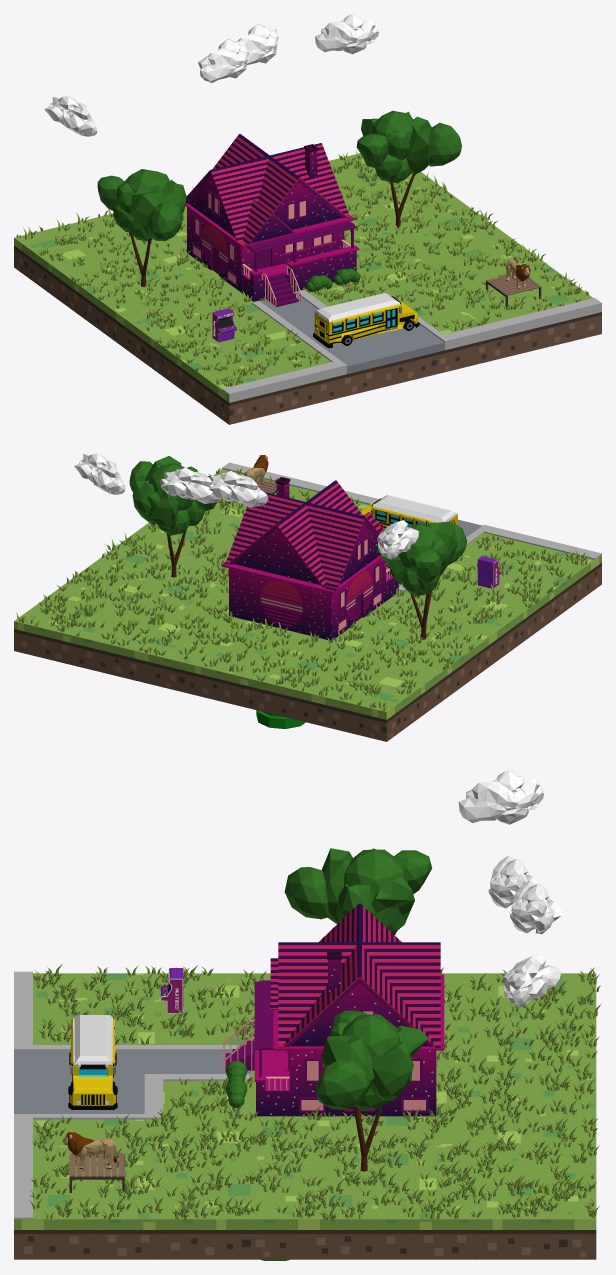
3 renders of one model, top to bottom at view 1: azimuth 30°, elevation 25°; view 2: azimuth 150°, elevation 25°; view 3: azimuth 270°, elevation 25°, orthographic. The views are drawn at different scales.
Visible parts, largest first — view 1: Cube.006, Cube.156, Circle.012_Grass_0.192, Cube.007, tree, tree.001, VEHICLES_SCHOOL_BUS, Cube.009, OBJRANDOM_ARCADE; view 2: Cube.006, Cube.156, Circle.012_Grass_0.192, Cube.007, tree.001, tree, VEHICLES_SCHOOL_BUS, OBJRANDOM_ARCADE, UNDERGROUND_PIPES, ANIMAL_LEON; view 3: Cube.006, Circle.012_Grass_0.192, Cube.156, tree, Cube.007, tree.001, VEHICLES_SCHOOL_BUS, Cube.009, ANIMAL_LEON, OBJRANDOM_ARCADE.
Boxes of the visible parts, x1,y1,x2,y2 form: Cube.006: [14, 153, 601, 424]; Cube.156: [185, 134, 359, 308]; Circle.012_Grass_0.192: [16, 150, 588, 386]; Cube.007: [44, 14, 378, 136]; tree: [356, 110, 461, 228]; tree.001: [97, 169, 186, 286]; VEHICLES_SCHOOL_BUS: [313, 293, 419, 348]; Cube.009: [486, 274, 541, 306]; OBJRANDOM_ARCADE: [212, 308, 236, 342]; Cube.006: [14, 462, 601, 741]; Cube.156: [221, 477, 398, 640]; Circle.012_Grass_0.192: [16, 468, 588, 711]; Cube.007: [74, 453, 418, 559]; tree.001: [375, 521, 467, 639]; tree: [129, 456, 216, 577]; VEHICLES_SCHOOL_BUS: [360, 495, 457, 530]; OBJRANDOM_ARCADE: [477, 555, 501, 588]; UNDERGROUND_PIPES: [256, 710, 305, 728]; ANIMAL_LEON: [244, 455, 268, 484]; Cube.006: [14, 971, 596, 1259]; Circle.012_Grass_0.192: [29, 964, 600, 1220]; Cube.156: [223, 903, 444, 1116]; tree: [315, 1010, 428, 1171]; Cube.007: [458, 770, 561, 1007]; tree.001: [284, 848, 432, 935]; VEHICLES_SCHOOL_BUS: [68, 1015, 117, 1109]; Cube.009: [69, 1152, 124, 1192]; ANIMAL_LEON: [62, 1131, 117, 1169]; OBJRANDOM_ARCADE: [160, 968, 183, 1013].
Bounding box in the file's own units: 4071 × 2759 × 4040.
Materials: 42 (5 with a texture image).
